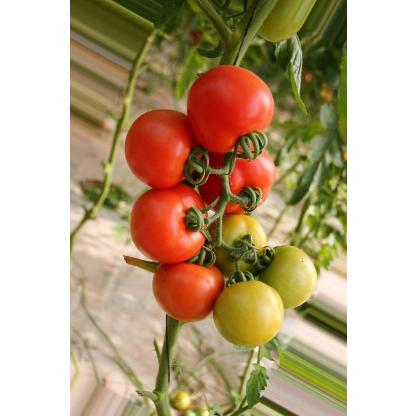tomato: (178, 58, 282, 162), (119, 177, 228, 265), (186, 132, 282, 218), (115, 103, 208, 188), (192, 205, 286, 287), (146, 247, 228, 330), (207, 272, 292, 352), (254, 235, 324, 314)
